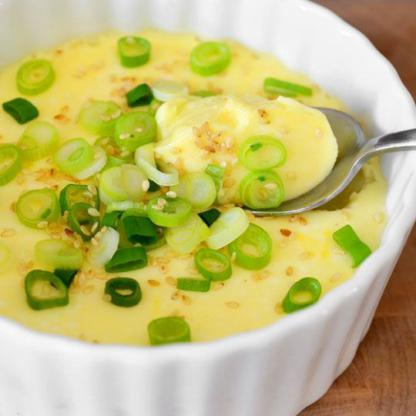Kaithoon: (0, 18, 375, 370)
